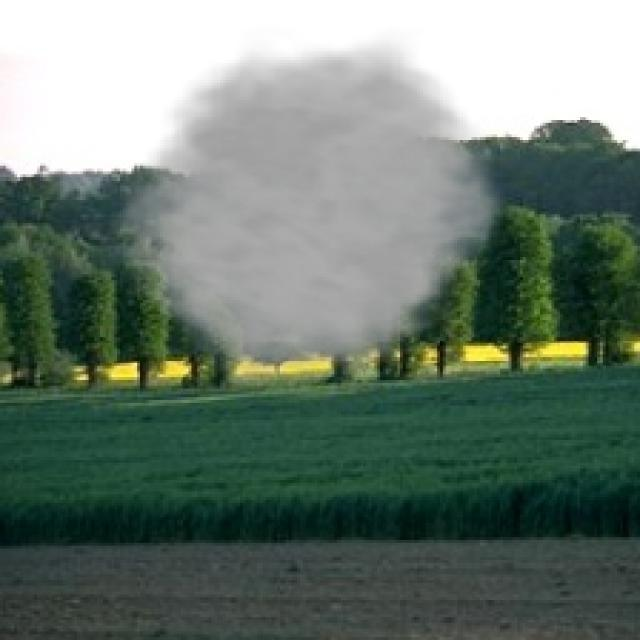Smoke: (100, 26, 514, 386)
